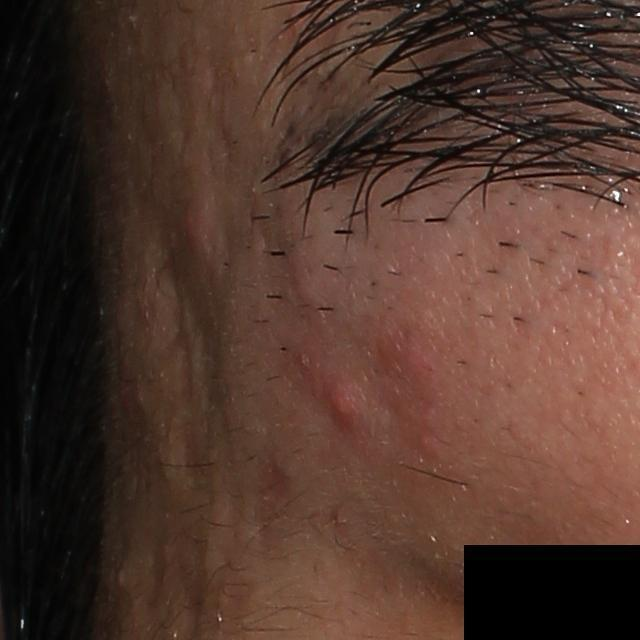papule: (323, 386, 363, 430), (177, 206, 212, 256)
